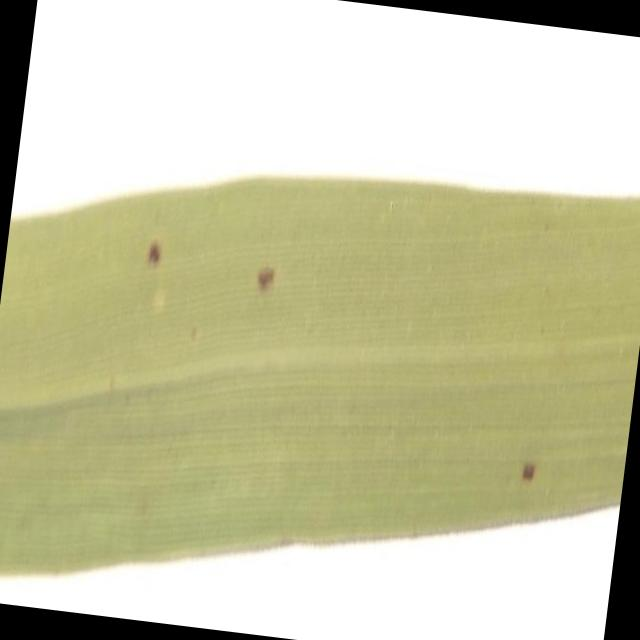Rice_Brownspot: (242, 239, 286, 314), (506, 421, 544, 492), (138, 214, 168, 280)
